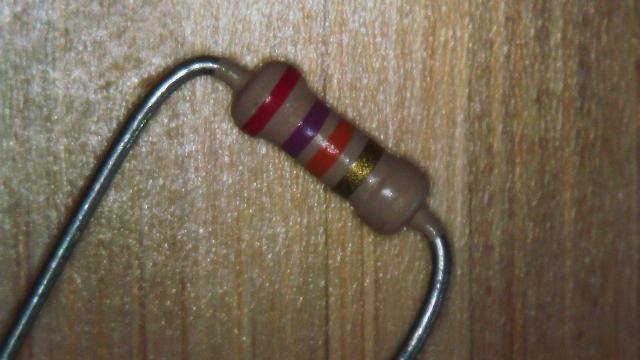gold: (332, 140, 380, 198)
orange: (304, 118, 354, 176)
red: (242, 66, 299, 136)
resistor: (206, 19, 463, 255)
violet: (280, 99, 328, 158)
